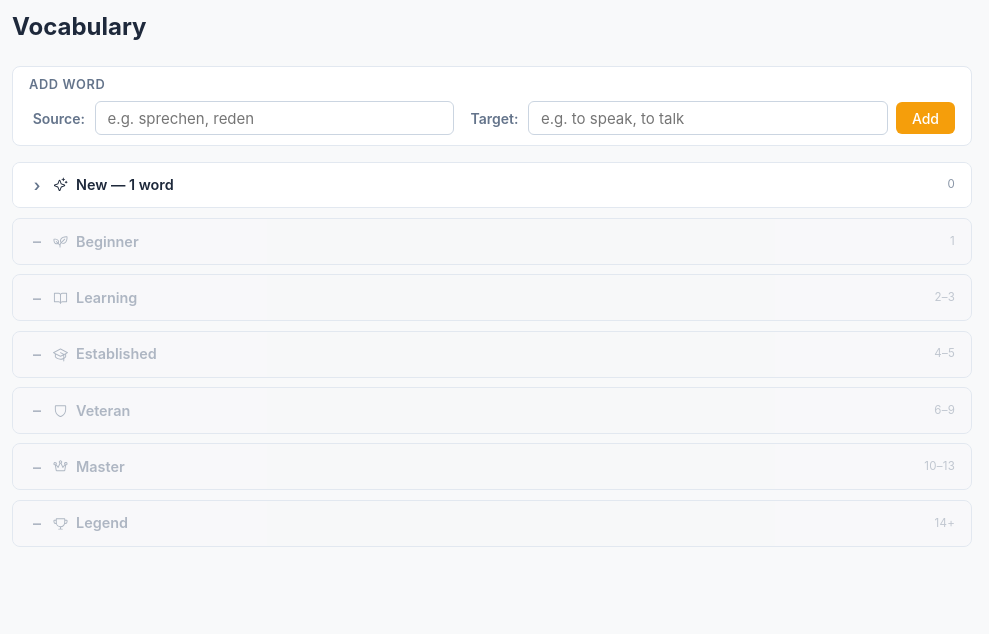
Test: VocabListScreen › shows words inside a bucket after expanding it
What coordinates should you click on to do the following:
click the heading "New — 1 word 0"
I would click on:
 (92, 185)
Its box is x1=13 y1=163 x2=971 y2=207.
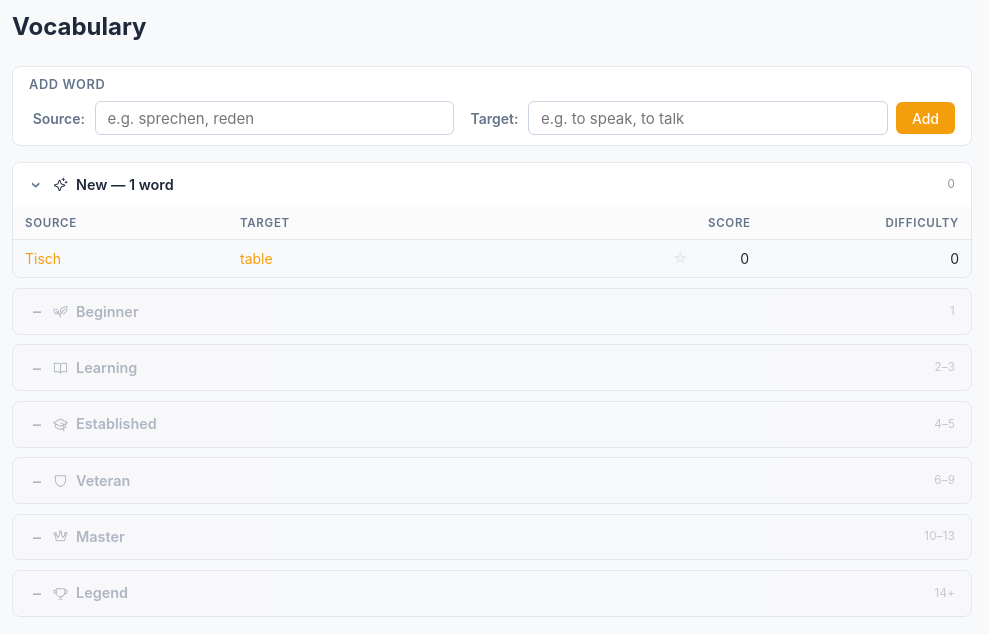
Result: the link "Tisch" is shown at x1=25 y1=250 x2=61 y2=267
Result: the link "table" is shown at x1=240 y1=250 x2=273 y2=267
